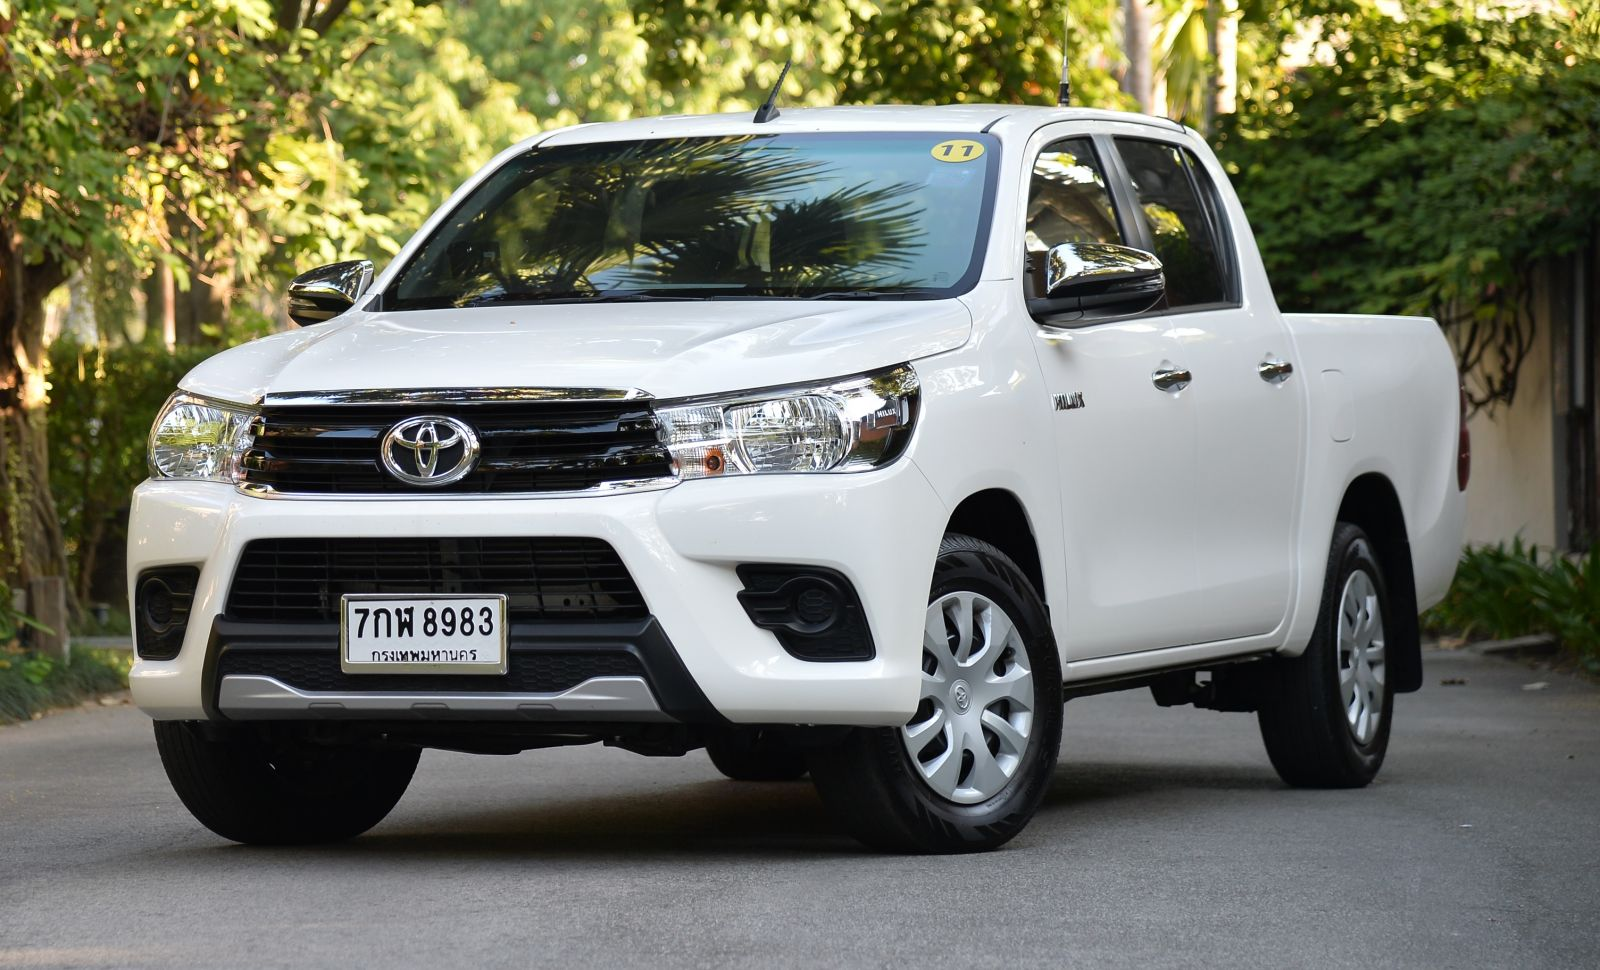pickup: (122, 93, 1474, 861)
